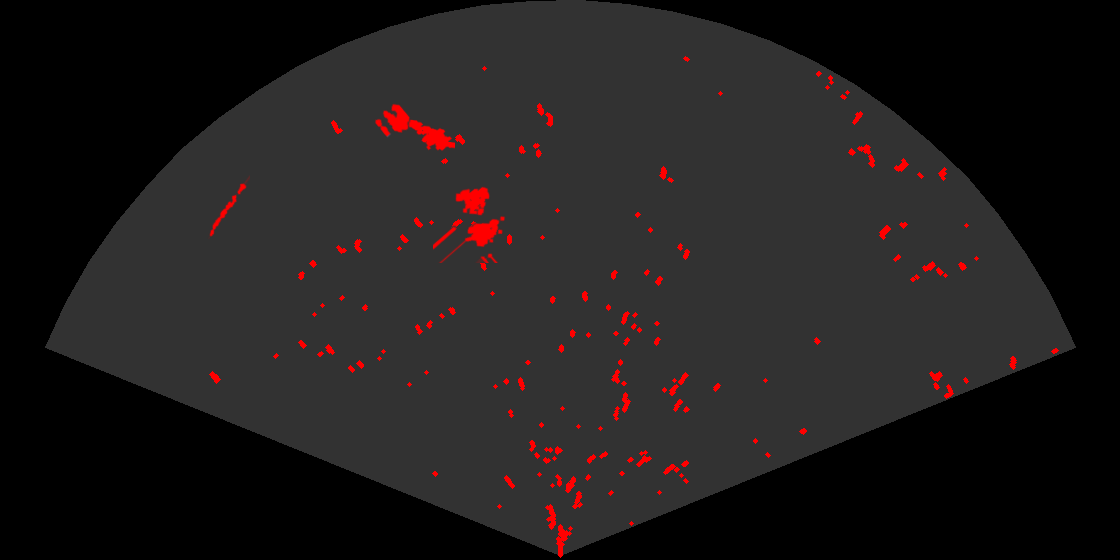ball: (373, 102, 412, 138)
cage: (433, 185, 507, 263)
chain: (207, 175, 250, 239)
frogman: (400, 117, 455, 153)
